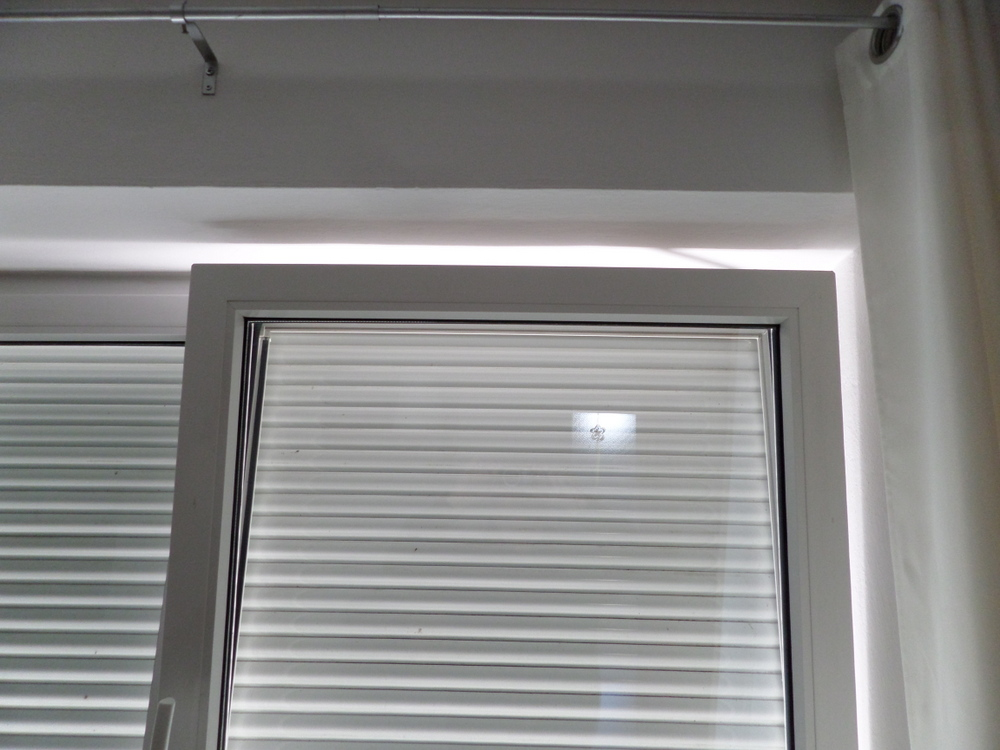windows: (181, 266, 795, 750)
